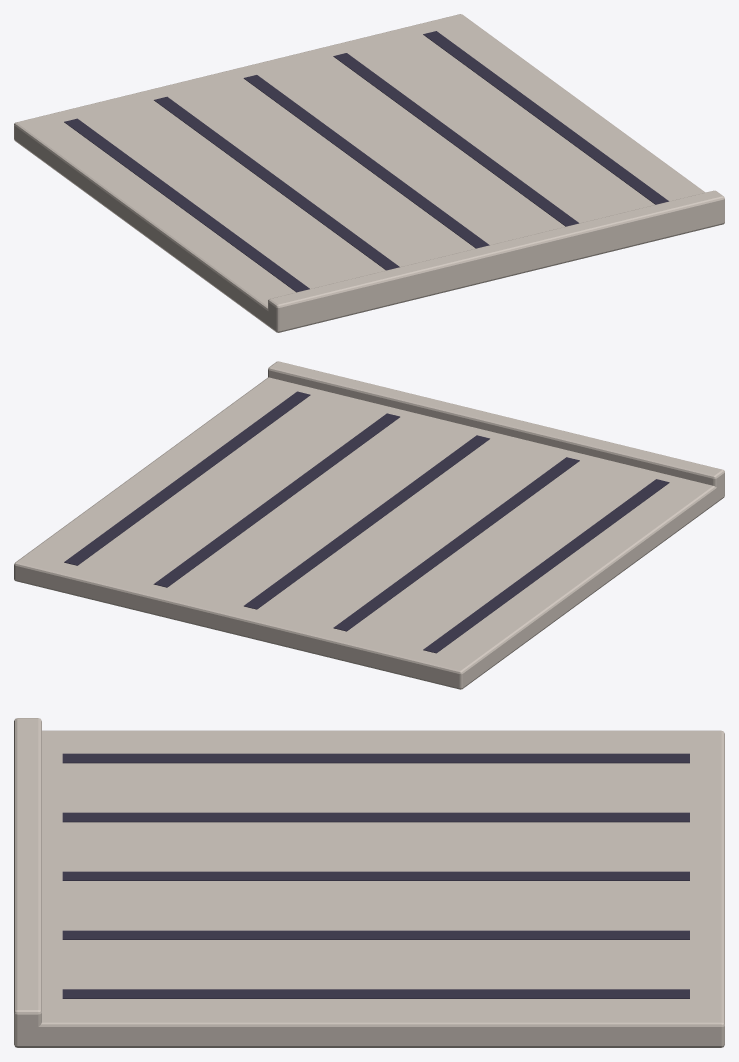
Rendered from driveway_apron_2m.glb.
The picture shows the model from 3 angles, top to bottom: view 1: azimuth 30°, elevation 25°; view 2: azimuth 150°, elevation 25°; view 3: azimuth 270°, elevation 25°; orthographic projection. The views are drawn at different scales.
Parts seen in each view (by area): view 1: driveway_apron_2m; view 2: driveway_apron_2m; view 3: driveway_apron_2m.
Boxes of the visible parts, x1,y1,x2,y2 form: driveway_apron_2m: [14, 14, 724, 332]; driveway_apron_2m: [14, 361, 724, 689]; driveway_apron_2m: [14, 718, 724, 1047].
Size of the model in its own units: 2 by 0.12 by 2.04.
